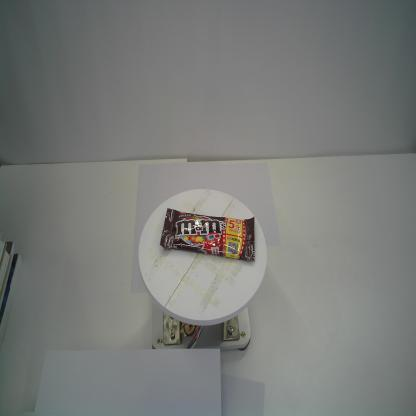Chocolate: (158, 207, 257, 265)
